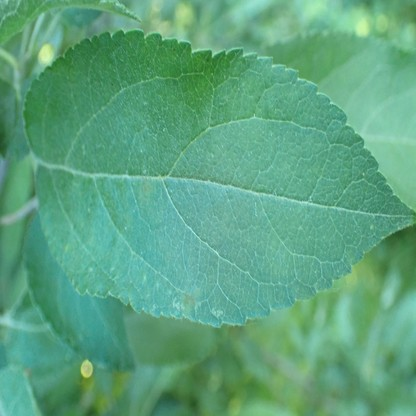scab: (181, 286, 199, 314), (140, 177, 153, 198)
